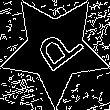P_SW: (26, 19, 84, 79)
